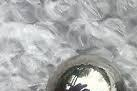ironball: (43, 51, 128, 90)
